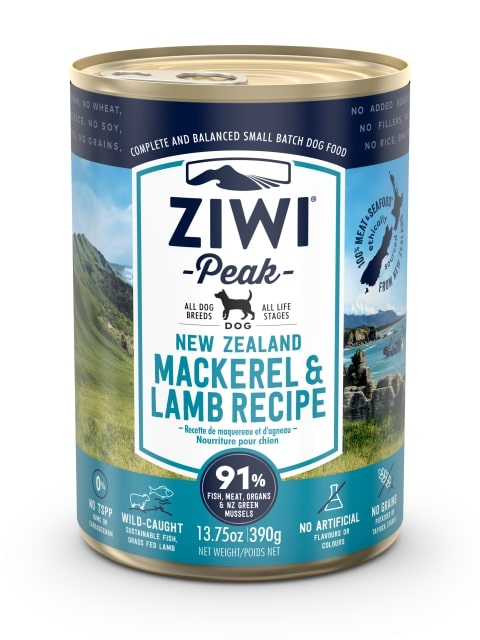metal: (68, 43, 412, 583)
